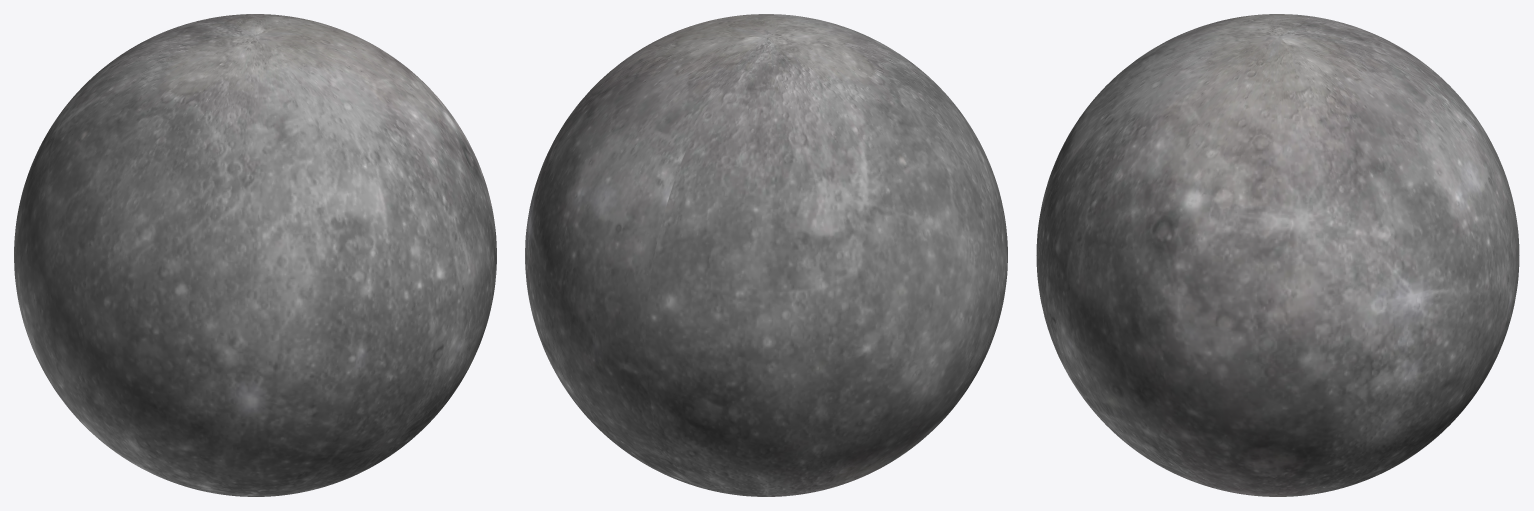
The model's file is planet_18.glb.
The picture shows the model from 3 angles, left to right: view 1: azimuth 30°, elevation 25°; view 2: azimuth 150°, elevation 25°; view 3: azimuth 270°, elevation 25°; orthographic projection.
Parts seen in each view (by area): view 1: converted.glb; view 2: converted.glb; view 3: converted.glb.
Part boxes in pixels (<box>): converted.glb: <box>14,14,496,496</box>; converted.glb: <box>525,14,1007,496</box>; converted.glb: <box>1036,14,1519,496</box>.
Bounding box in the file's own units: 1 × 1 × 1.
Materials: 1 (1 with a texture image).
